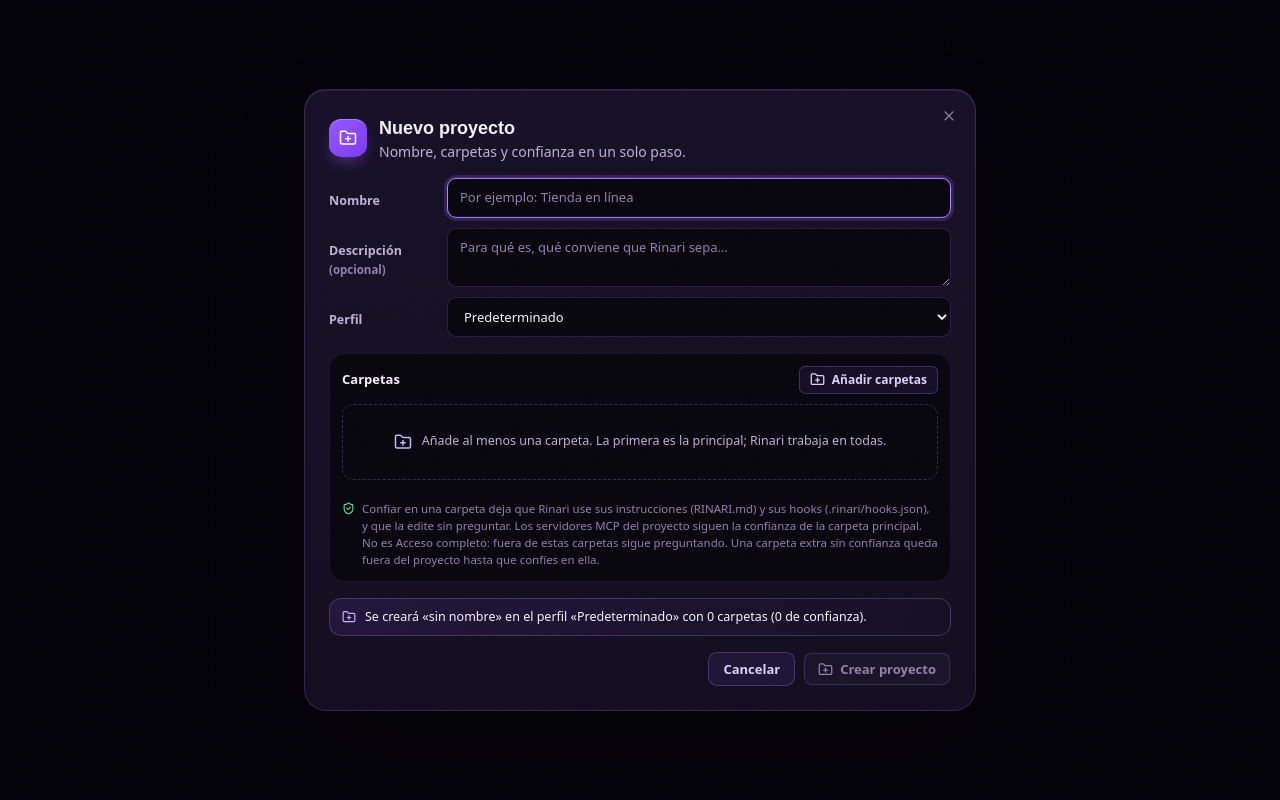
Test case: folders are checked, the name comes from the first, and the summary reviews it all
Expected: the dialog with test id "create-project" is shown, [304,89,976,711]
Expected: the button with test id "create-project-submit" is disabled, [803,652,951,686]
Click the button with test id "create-project-add".
click(868, 379)  # box [799,365,938,393]
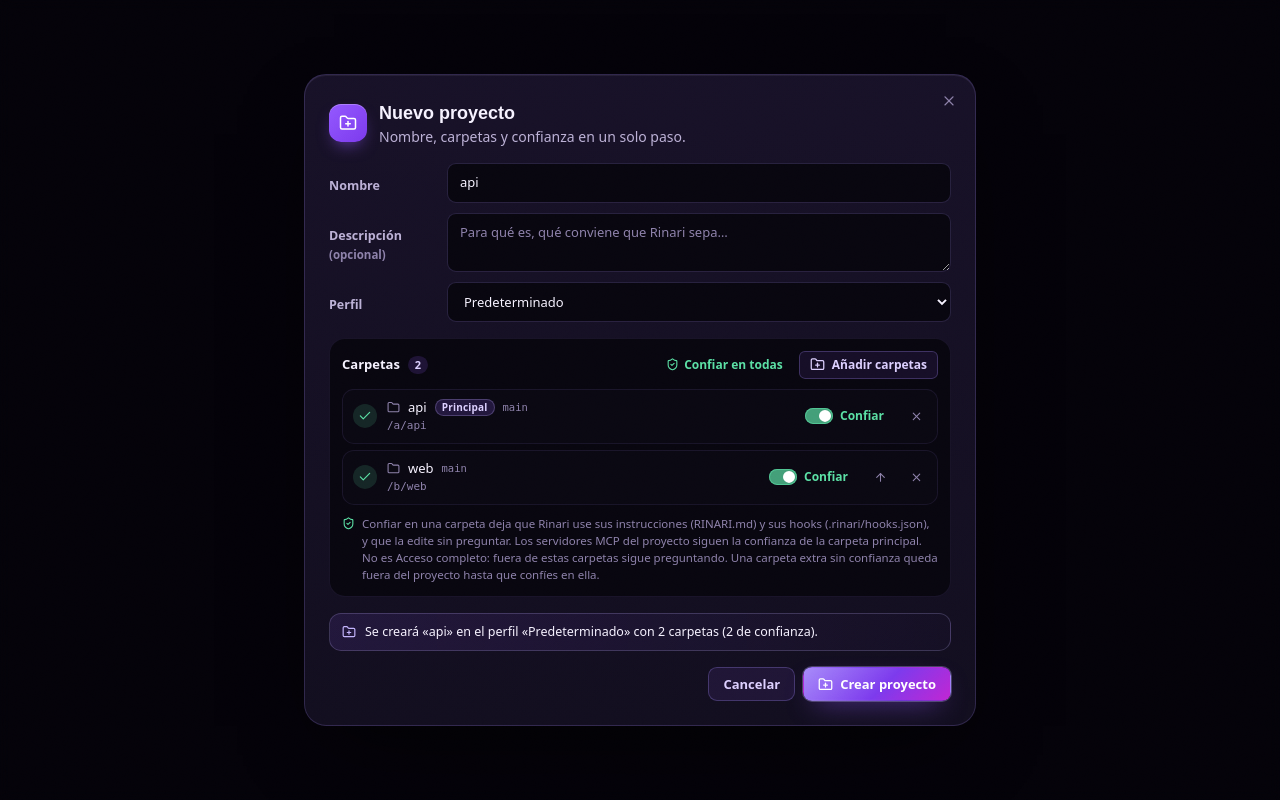
Expected: the field labelled "Nombre" holds "api", [447,163,951,202]
Expected: the list item with test id "create-project-row" shows "Principal", [442,400,488,414]
Click the checkbox labelled "Confiar" in the row of "/b/web".
click(783, 477)  # box [769,469,797,485]
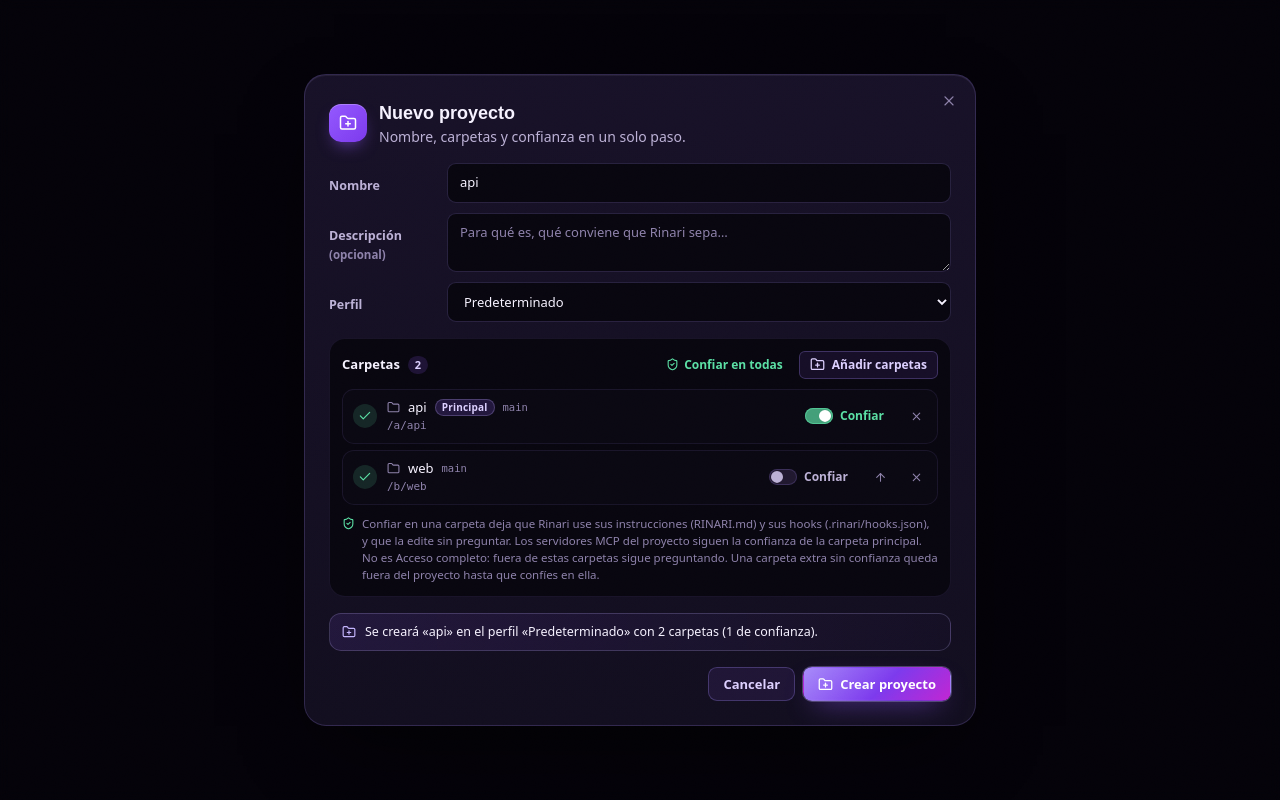
Expected: the button with test id "create-project-submit" is enabled, [803,667,951,701]
Expected: the element with test id "create-project-summary" shows "2 carpetas (1 de confianza)", [365,622,818,639]
